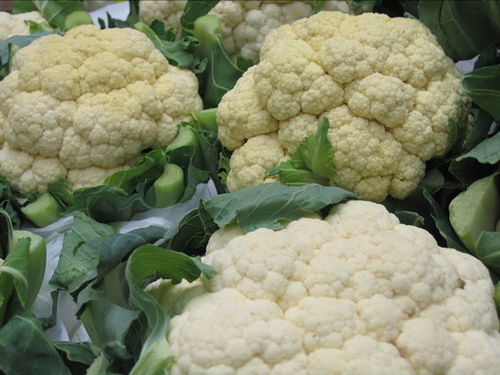cauliflower: (131, 200, 499, 374), (216, 8, 476, 205), (0, 22, 206, 196)
